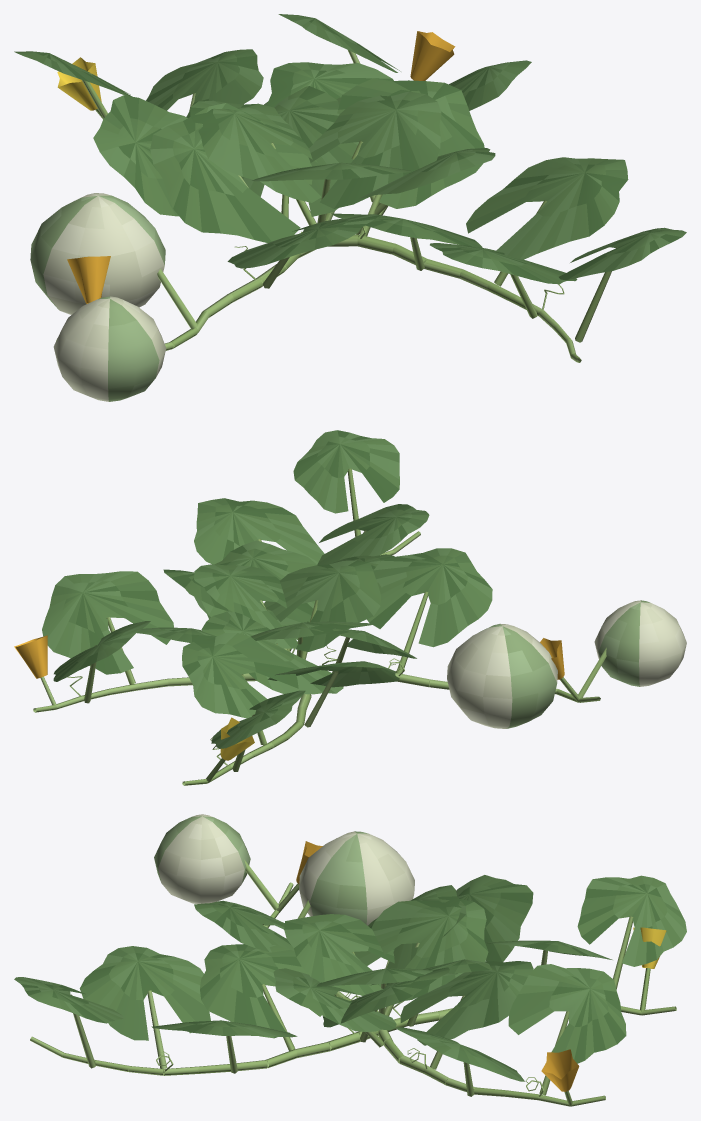
The model's file is melon_charentais_mur.glb.
3 renders of one model, top to bottom at view 1: azimuth 30°, elevation 25°; view 2: azimuth 150°, elevation 25°; view 3: azimuth 270°, elevation 25°, orthographic. The views are drawn at different scales.
Parts seen in each view (by area): view 1: Melon_Feuilles, Melon_Fruits, Melon_Tiges, Melon_Fleurs; view 2: Melon_Feuilles, Melon_Fruits, Melon_Tiges, Melon_Fleurs; view 3: Melon_Feuilles, Melon_Fruits, Melon_Tiges, Melon_Fleurs.
Boxes of the visible parts, x1,y1,x2,y2 form: Melon_Feuilles: [14, 14, 686, 284]; Melon_Fruits: [30, 193, 166, 401]; Melon_Tiges: [56, 50, 617, 362]; Melon_Fleurs: [57, 31, 455, 303]; Melon_Feuilles: [42, 430, 492, 748]; Melon_Fruits: [447, 600, 686, 728]; Melon_Tiges: [33, 468, 606, 785]; Melon_Fleurs: [14, 635, 564, 760]; Melon_Feuilles: [14, 875, 686, 1081]; Melon_Fruits: [154, 814, 414, 925]; Melon_Tiges: [30, 859, 676, 1106]; Melon_Fleurs: [296, 841, 666, 1091].
Bounding box in the file's own units: 1.49 × 0.2916 × 1.64.
